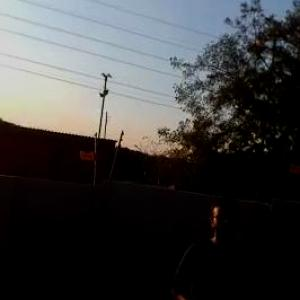follow: (162, 187, 260, 299)
